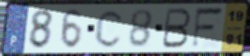6: (60, 7, 84, 50)
8: (126, 8, 155, 48), (28, 8, 55, 50)
B: (160, 7, 193, 50)
C: (94, 8, 127, 49)
F: (190, 6, 226, 51)
